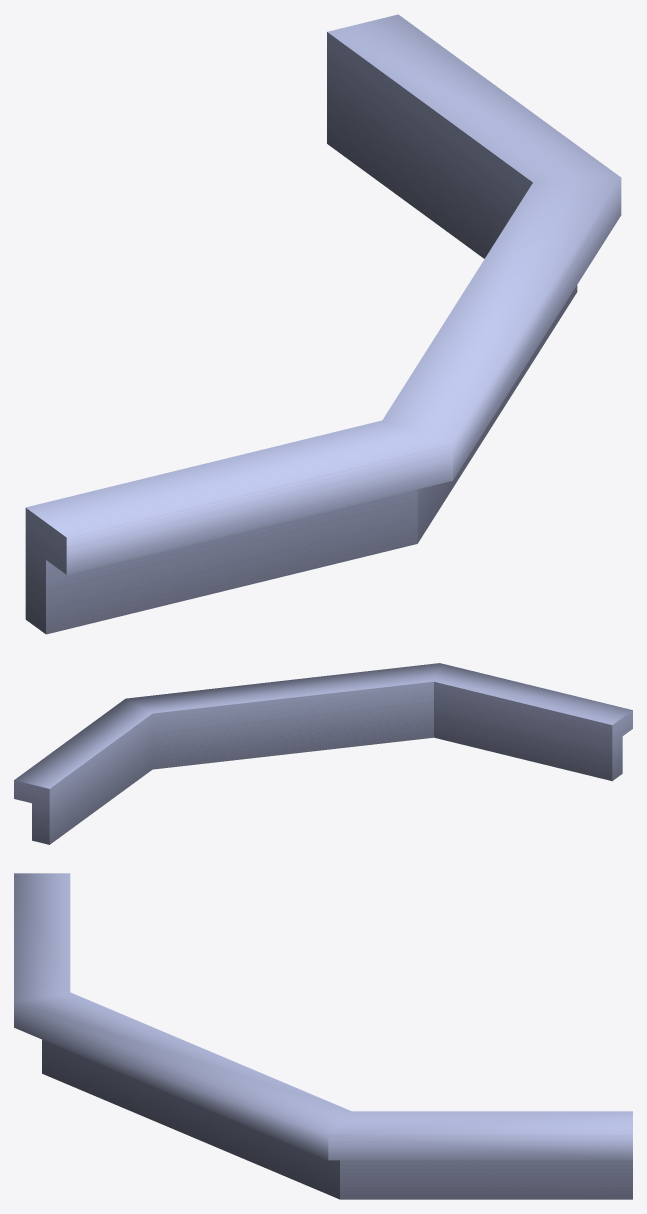
Rendered from border-corner-diagonal.glb.
The picture shows the model from 3 angles, top to bottom: view 1: azimuth 30°, elevation 25°; view 2: azimuth 150°, elevation 25°; view 3: azimuth 270°, elevation 25°; orthographic projection. The views are drawn at different scales.
Visible parts, largest first — view 1: border-corner-diagonal; view 2: border-corner-diagonal; view 3: border-corner-diagonal.
Boxes of the visible parts, <box> form: border-corner-diagonal: <box>25,14,621,634</box>; border-corner-diagonal: <box>14,663,632,844</box>; border-corner-diagonal: <box>14,873,632,1199</box>.
Size of the model in its own units: 2.2 by 0.3 by 2.2.
1 material, 1 textured.
